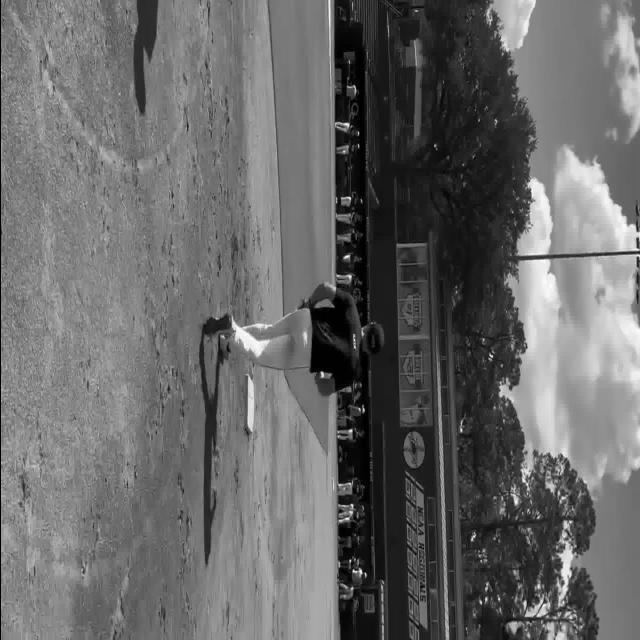base: (244, 376, 254, 433)
shoe: (201, 313, 234, 336), (218, 333, 230, 362)
